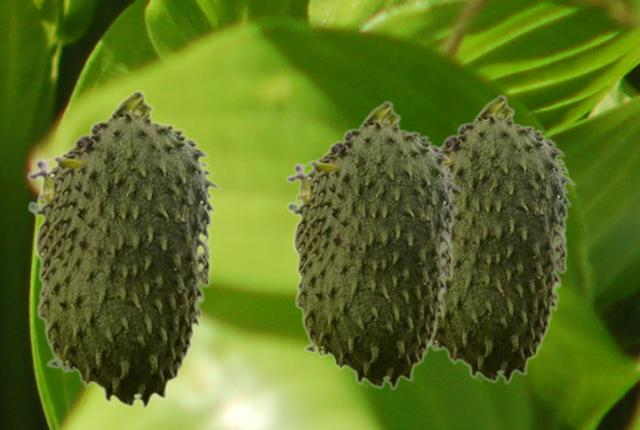guyabano: (27, 88, 220, 408), (286, 99, 461, 389), (430, 93, 575, 383)
